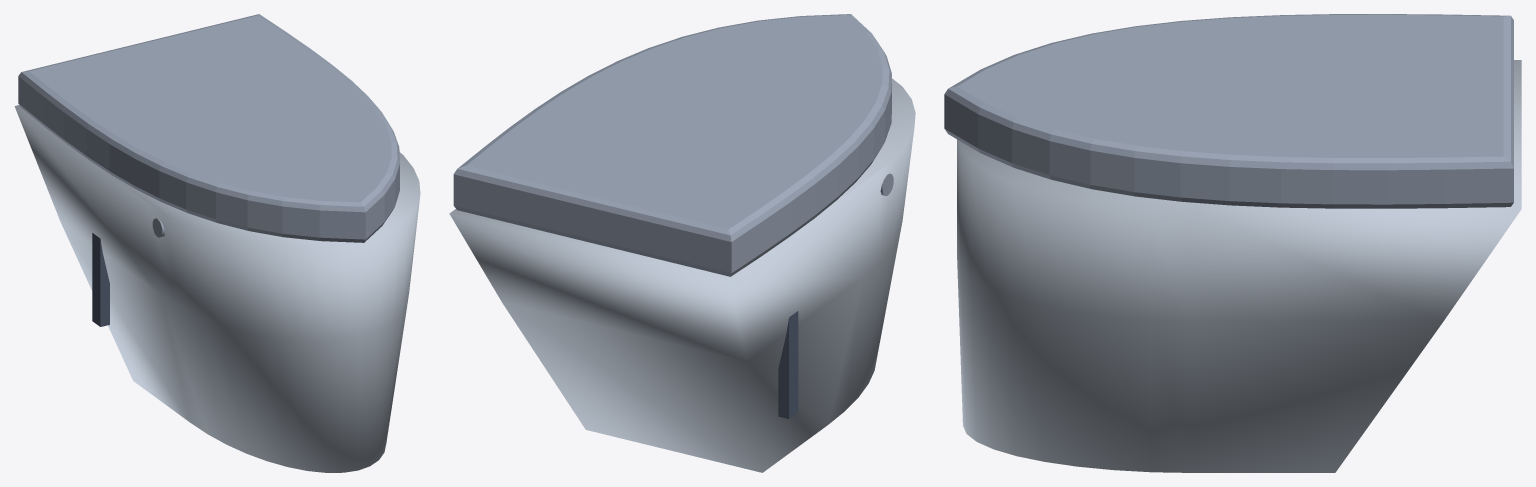
Rendered from toilet-lite.glb.
The picture shows the model from 3 angles, left to right: view 1: azimuth 30°, elevation 25°; view 2: azimuth 150°, elevation 25°; view 3: azimuth 270°, elevation 25°; orthographic projection. The views are drawn at different scales.
Parts seen in each view (by area): view 1: toilet; view 2: toilet; view 3: toilet.
Part boxes in pixels (x1=…): toilet: x1=14, y1=14, x2=420, y2=472; toilet: x1=449, y1=14, x2=915, y2=472; toilet: x1=944, y1=14, x2=1521, y2=472.
Size of the model in its own units: 0.4192 by 0.4364 by 0.6727.
